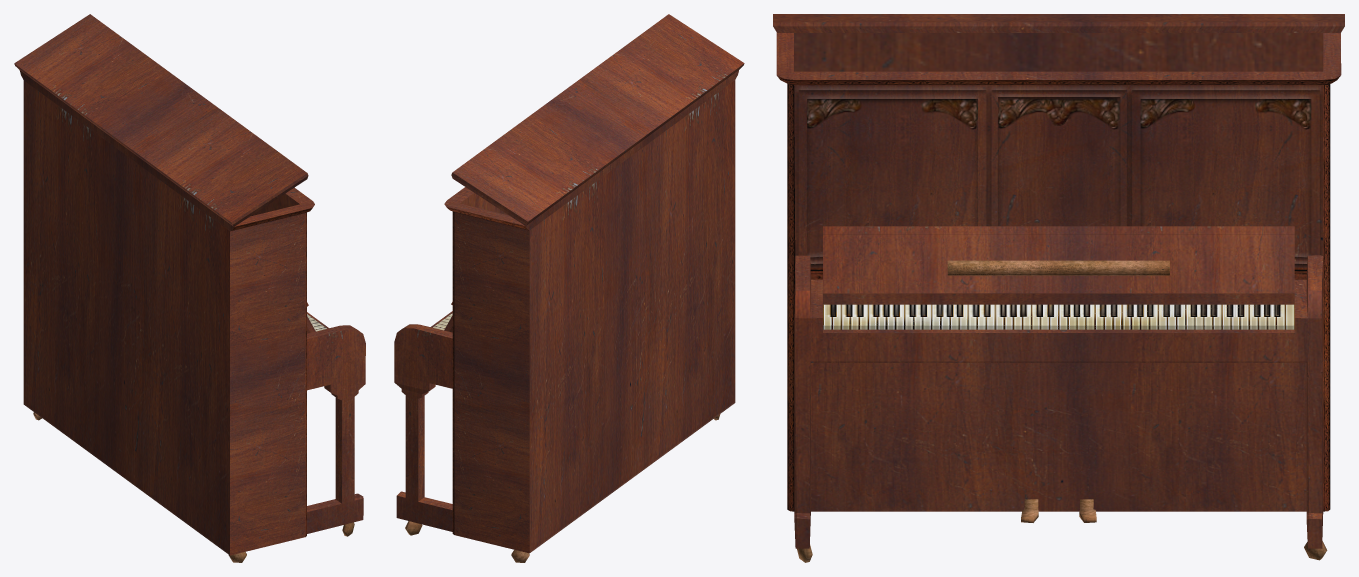
The model's file is M_Home_Garden_Piano1.fbx.
The picture shows the model from 3 angles, left to right: view 1: azimuth 30°, elevation 25°; view 2: azimuth 150°, elevation 25°; view 3: azimuth 270°, elevation 25°; orthographic projection. The views are drawn at different scales.
Visible parts, largest first — view 1: M_Home_Garden_Piano1; view 2: M_Home_Garden_Piano1; view 3: M_Home_Garden_Piano1.
Boxes of the visible parts, x1,y1,x2,y2 form: M_Home_Garden_Piano1: (14,14,365,562); M_Home_Garden_Piano1: (394,14,744,562); M_Home_Garden_Piano1: (773,14,1344,562).
Bounding box in the file's own units: 71.06 × 182 × 187.
